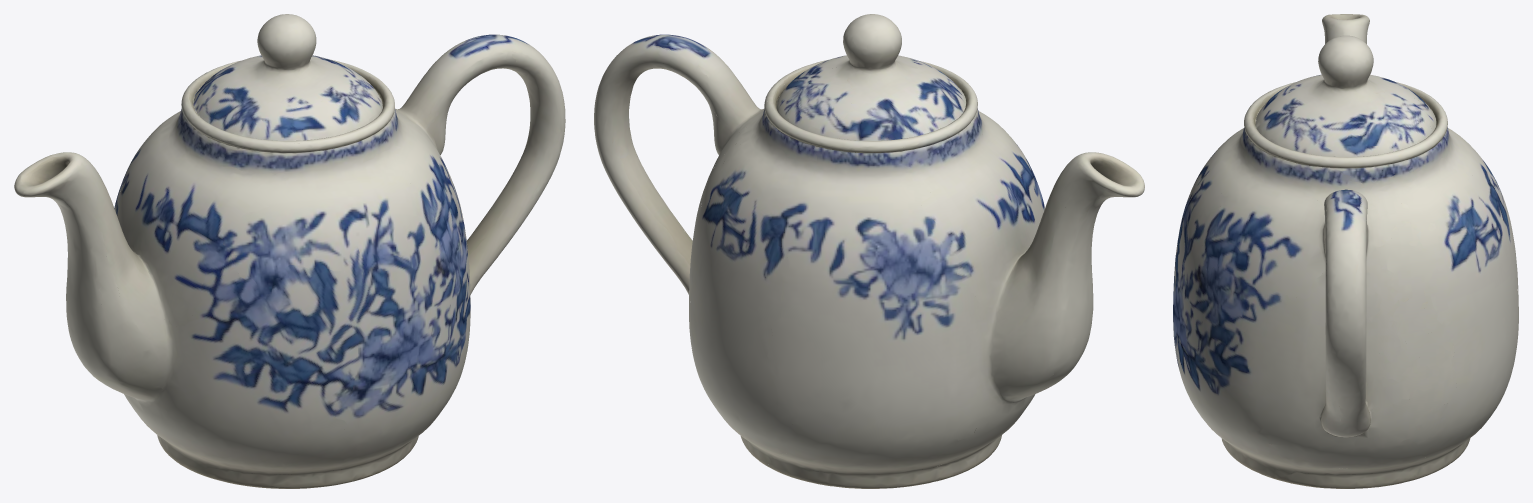
Rendered from teapot.glb.
3 renders of one model, left to right at view 1: azimuth 30°, elevation 25°; view 2: azimuth 150°, elevation 25°; view 3: azimuth 270°, elevation 25°, orthographic. The views are drawn at different scales.
Parts seen in each view (by area): view 1: Mesh_0; view 2: Mesh_0; view 3: Mesh_0.
Part boxes in pixels (box(x1,y1,x2,y2)): Mesh_0: box(14, 14, 565, 488); Mesh_0: box(594, 14, 1144, 488); Mesh_0: box(1173, 14, 1518, 488).
Size of the model in its own units: 1 by 0.7367 by 0.58.
1 material, 1 textured.
